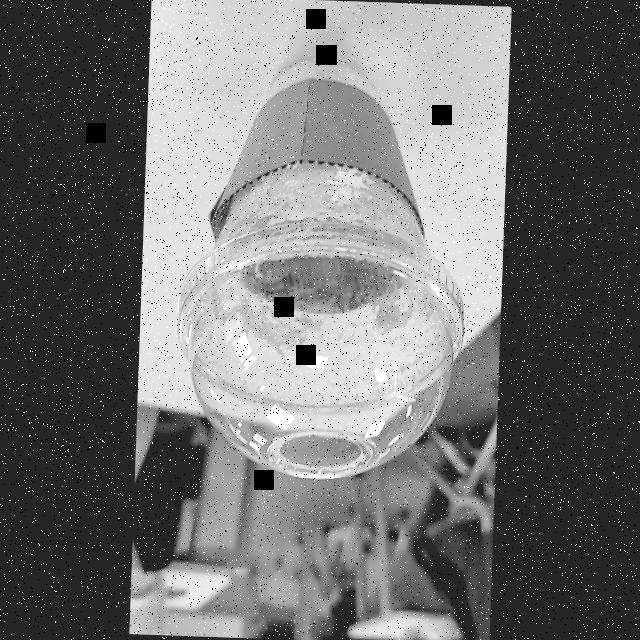plastic_cup: (176, 52, 474, 484)
plastic_cup_lid: (173, 214, 471, 483)
